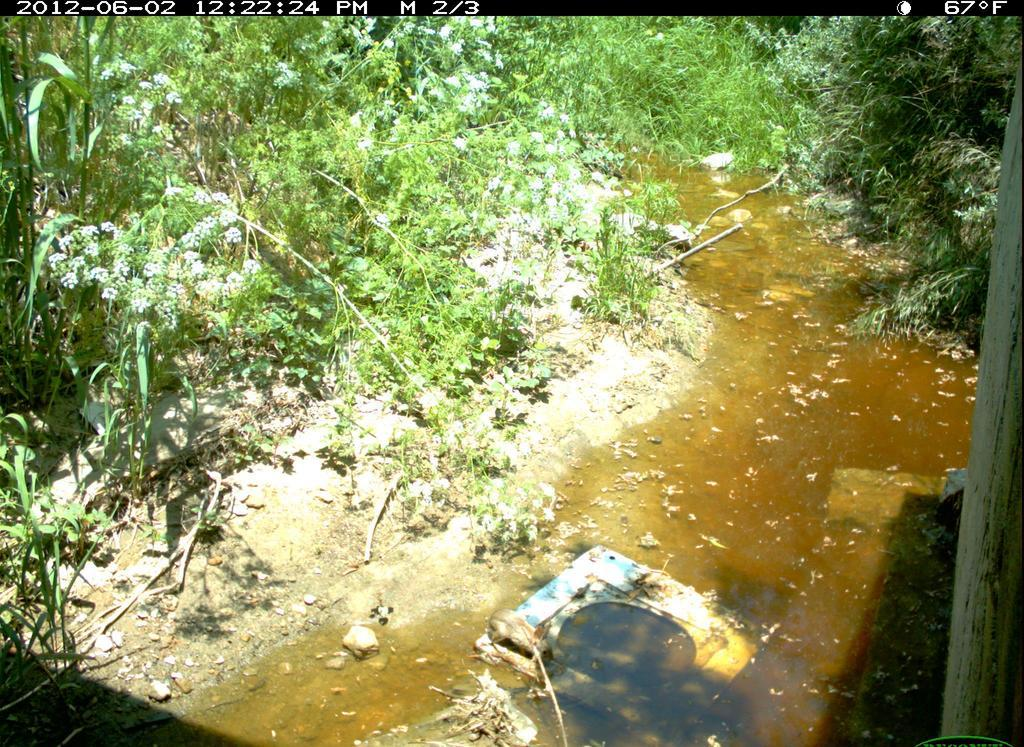rabbit: (485, 603, 564, 673)
